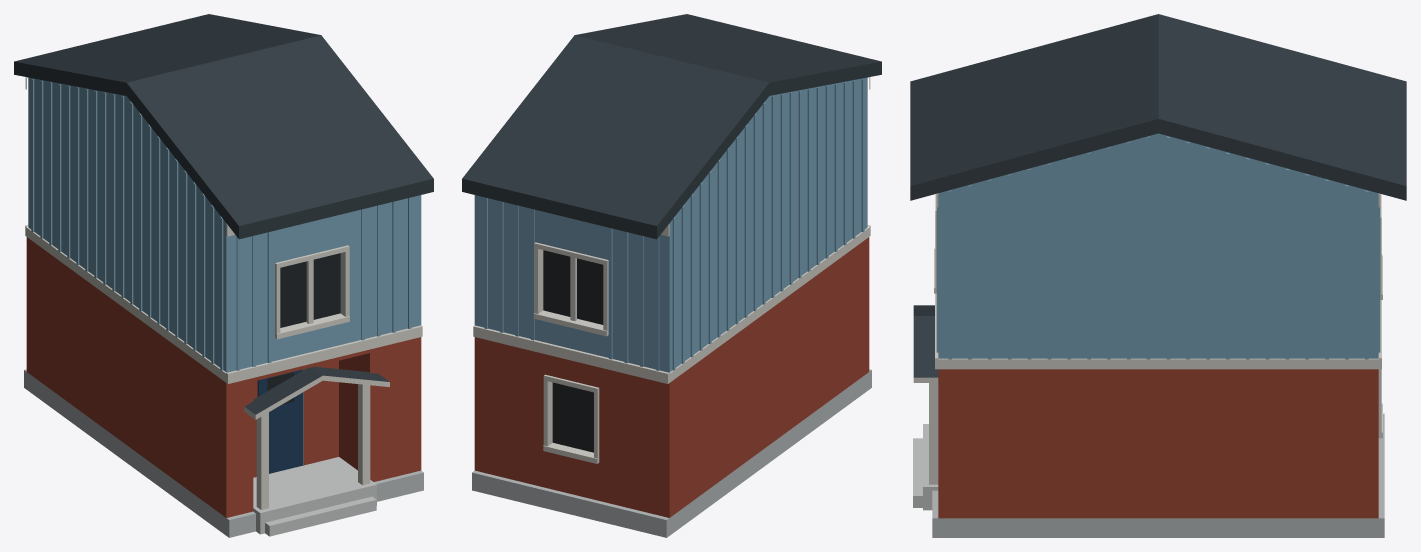
Rendered from townhouse-row-unit-b9544b.glb.
3 renders of one model, left to right at view 1: azimuth 30°, elevation 25°; view 2: azimuth 150°, elevation 25°; view 3: azimuth 270°, elevation 25°, orthographic. The views are drawn at different scales.
Visible parts, largest first — view 1: townhouse-shell, door-leaf; view 2: townhouse-shell; view 3: townhouse-shell.
Part boxes in pixels (x1=…): townhouse-shell: x1=14, y1=14, x2=433, y2=537; door-leaf: x1=257, y1=369, x2=302, y2=473; townhouse-shell: x1=462, y1=14, x2=881, y2=537; townhouse-shell: x1=910, y1=14, x2=1406, y2=537.
Bounding box in the file's own units: 4 × 7.46 × 8.
